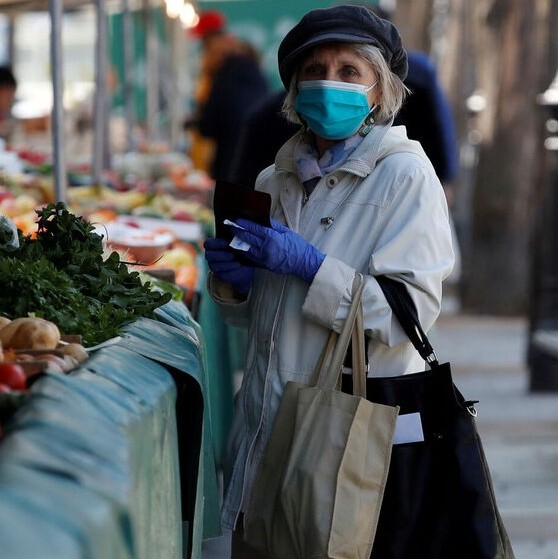with_mask: (288, 30, 398, 144)
